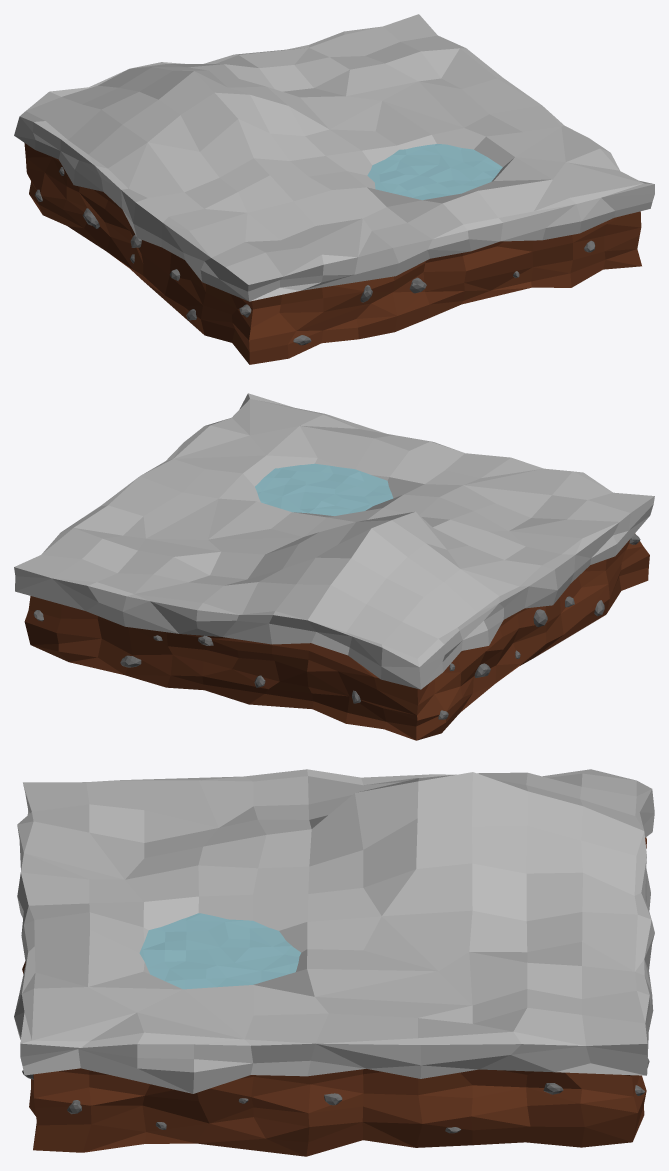
Rendered from Terrain_1.fbx.
3 views of the same model, one above another, from view 1: azimuth 30°, elevation 25°; view 2: azimuth 150°, elevation 25°; view 3: azimuth 270°, elevation 25° (orthographic). The views are drawn at different scales.
Parts seen in each view (by area): view 1: Plane.001; view 2: Plane.001; view 3: Plane.001.
Part boxes in pixels (bbox=[...]): Plane.001: bbox=[14, 14, 654, 364]; Plane.001: bbox=[14, 393, 654, 740]; Plane.001: bbox=[14, 769, 654, 1156].
Bounding box in the file's own units: 4338 × 1485 × 4259.
